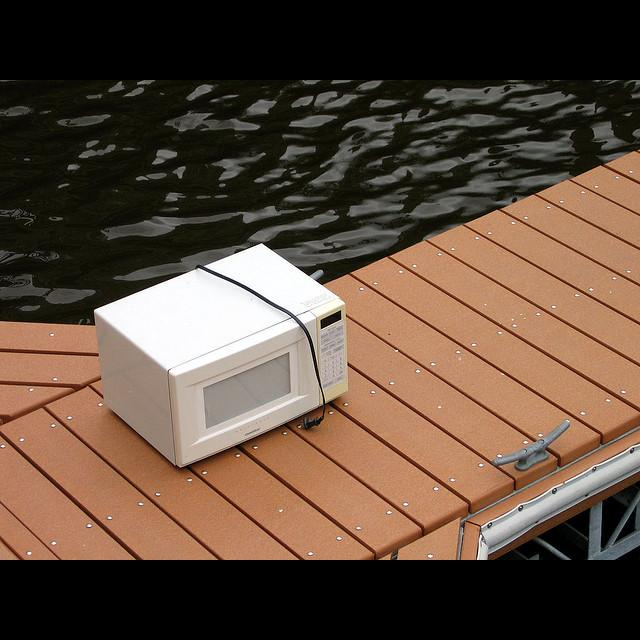Microwave: (97, 243, 352, 467)
